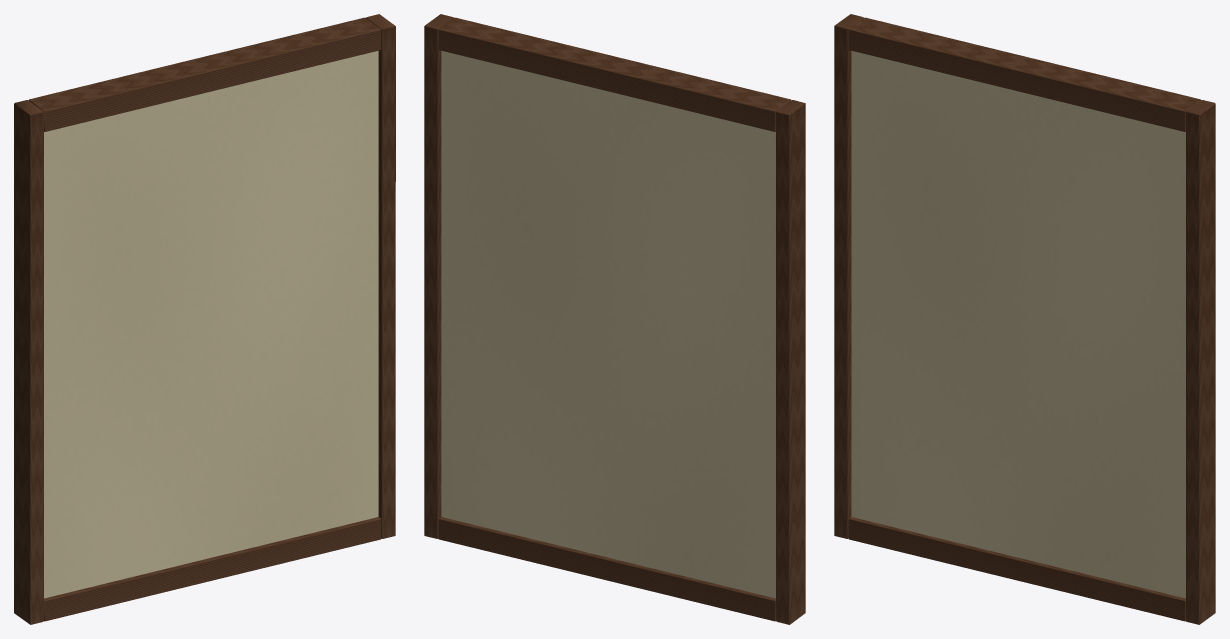
The model's file is plaster_wall.gltf.
3 renders of one model, left to right at view 1: azimuth 30°, elevation 25°; view 2: azimuth 150°, elevation 25°; view 3: azimuth 330°, elevation 25°, orthographic.
Bounding box in the file's own units: 1.8 × 2.4 × 0.14.
Materials: 2 (2 with a texture image).
